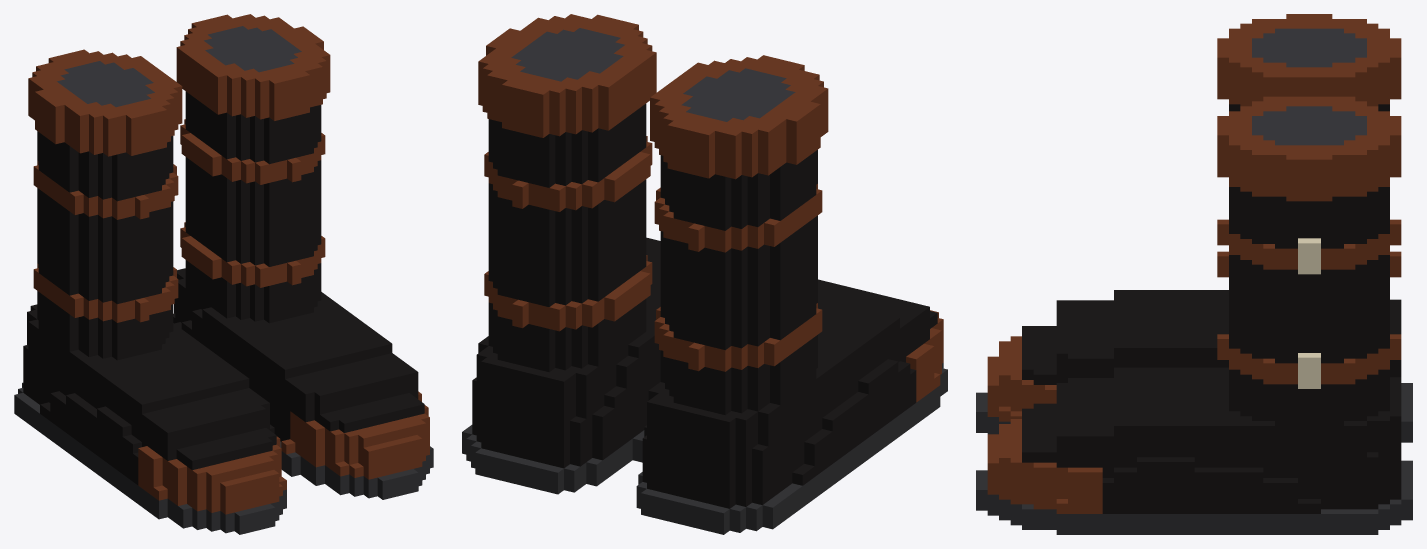
The model's file is boots_xlblack_dragon_hide.glb.
3 renders of one model, left to right at view 1: azimuth 30°, elevation 25°; view 2: azimuth 150°, elevation 25°; view 3: azimuth 270°, elevation 25°, orthographic. The views are drawn at different scales.
Parts seen in each view (by area): view 1: boots_xlblack_dragon_hide:compound; view 2: boots_xlblack_dragon_hide:compound; view 3: boots_xlblack_dragon_hide:compound.
Part boxes in pixels (left/top/right/bottom): boots_xlblack_dragon_hide:compound: left=14, top=14, right=433, bottom=534; boots_xlblack_dragon_hide:compound: left=462, top=14, right=947, bottom=534; boots_xlblack_dragon_hide:compound: left=976, top=14, right=1412, bottom=534.
Size of the model in its own units: 0.3 by 0.36 by 0.38.
